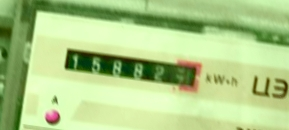1: (68, 51, 79, 68)
2: (151, 62, 163, 80)
5: (88, 54, 101, 71)
7: (172, 72, 183, 84)
8: (130, 60, 142, 78), (109, 58, 121, 75)
screen: (54, 37, 206, 97)
